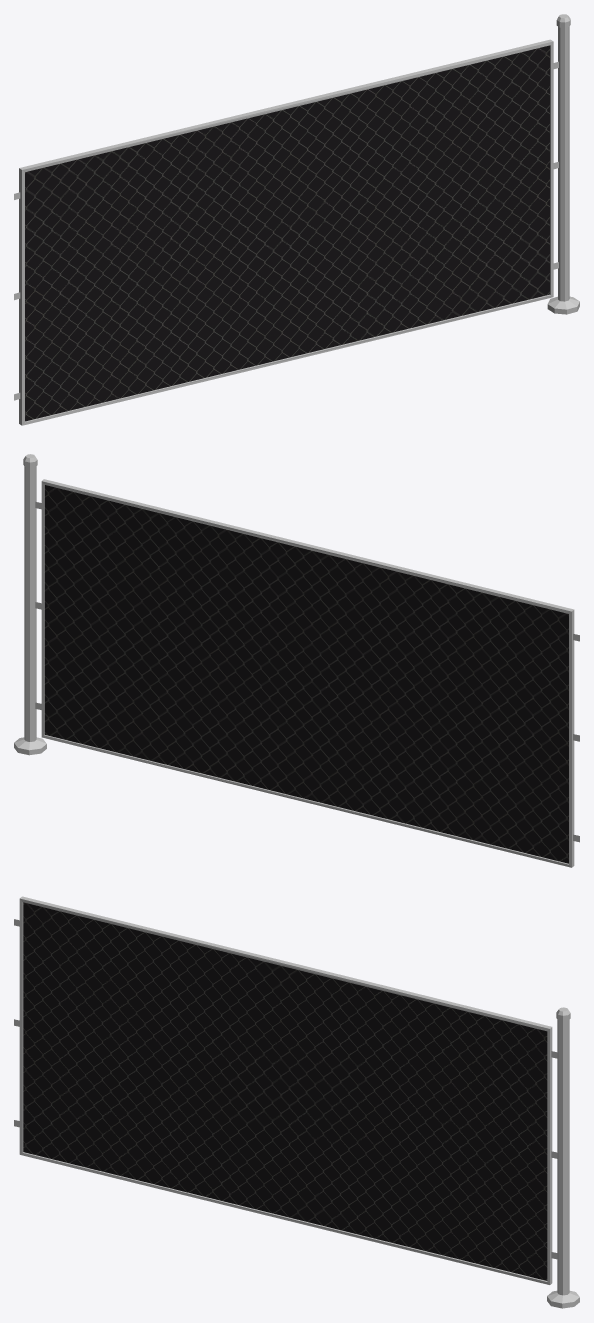
Rendered from fence.fbx.
3 renders of one model, top to bottom at view 1: azimuth 30°, elevation 25°; view 2: azimuth 150°, elevation 25°; view 3: azimuth 330°, elevation 25°, orthographic.
Parts seen in each view (by area): view 1: fence_Layer1; view 2: fence_Layer1; view 3: fence_Layer1.
Boxes of the visible parts, bbox=[...] form: fence_Layer1: bbox=[14, 14, 579, 425]; fence_Layer1: bbox=[14, 454, 579, 867]; fence_Layer1: bbox=[14, 896, 579, 1308].
Bounding box in the file's own units: 4.09 × 2.03 × 0.1961.
